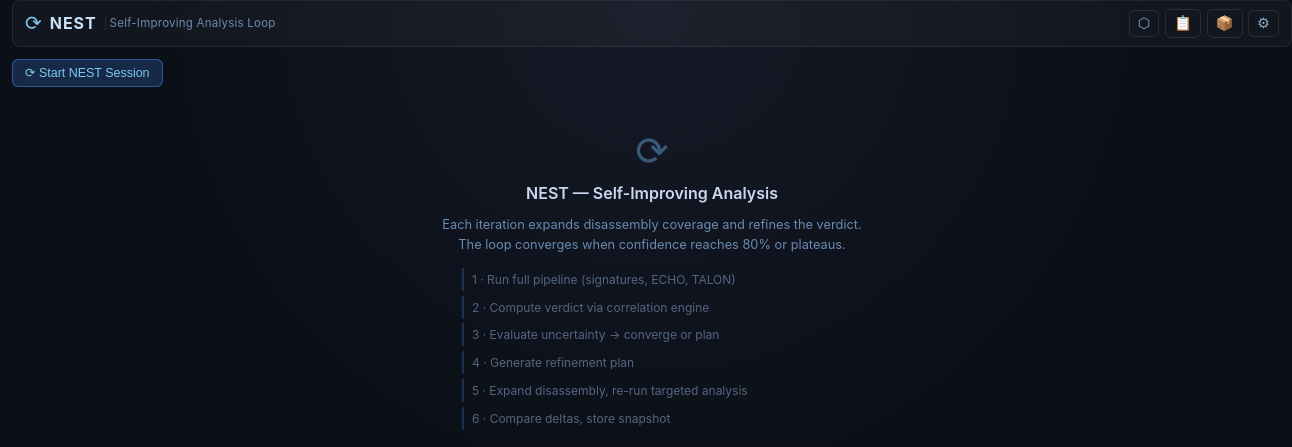
NEST rendered identity custody flow › does not start a local-only runner when lifecycle creation fails: native lifecycle unavailable
Click the button "⟳ Start NEST Session" at point(87, 73), box left=12, top=59, right=163, bottom=87
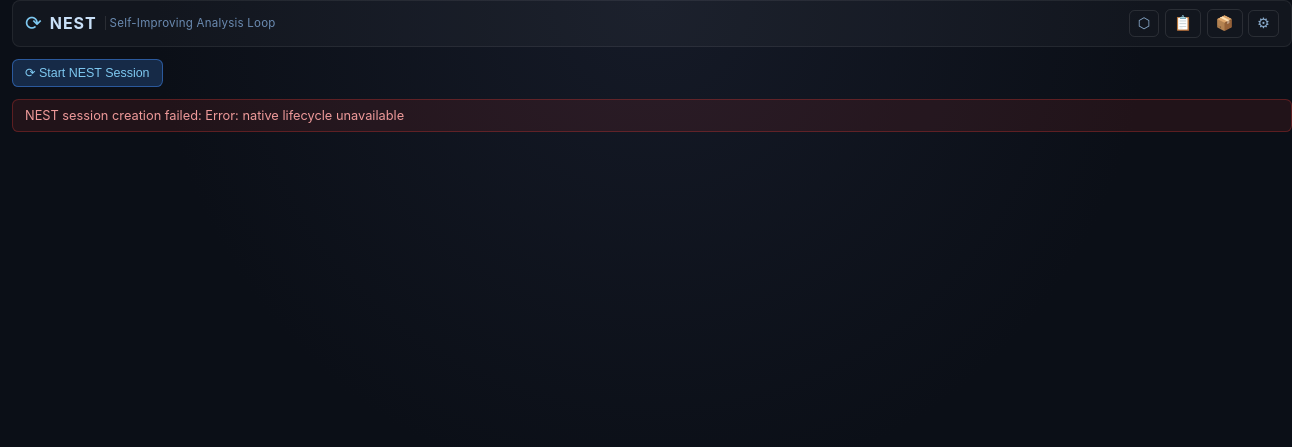
Result: the text with class "nest-error" shows "native lifecycle unavailable" at left=25, top=108, right=404, bottom=123
